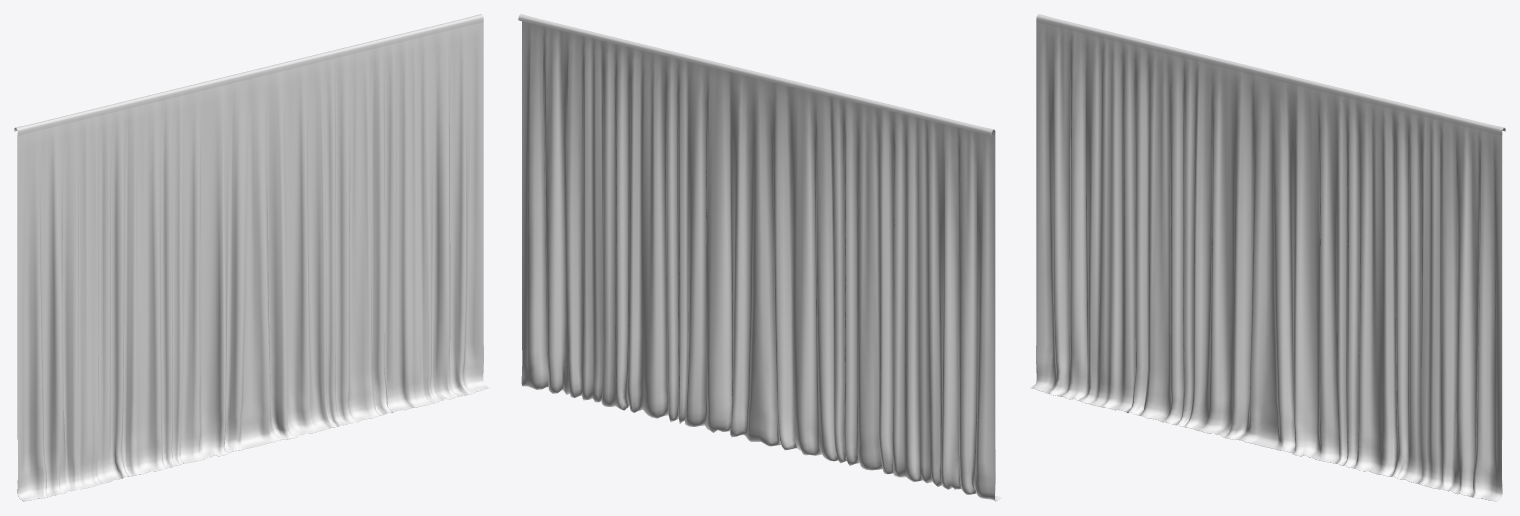
Rendered from PartyBackdrop01_2.FBX.
The picture shows the model from 3 angles, left to right: view 1: azimuth 30°, elevation 25°; view 2: azimuth 150°, elevation 25°; view 3: azimuth 330°, elevation 25°; orthographic projection.
Visible parts, largest first — view 1: PartyBackdrop01_2; view 2: PartyBackdrop01_2; view 3: PartyBackdrop01_2.
Boxes of the visible parts, <box> form: PartyBackdrop01_2: <box>14,14,489,501</box>; PartyBackdrop01_2: <box>518,14,1001,501</box>; PartyBackdrop01_2: <box>1030,14,1505,501</box>.
Size of what is drawn, in the model's own units: 4.5 by 3.41 by 0.1989.
